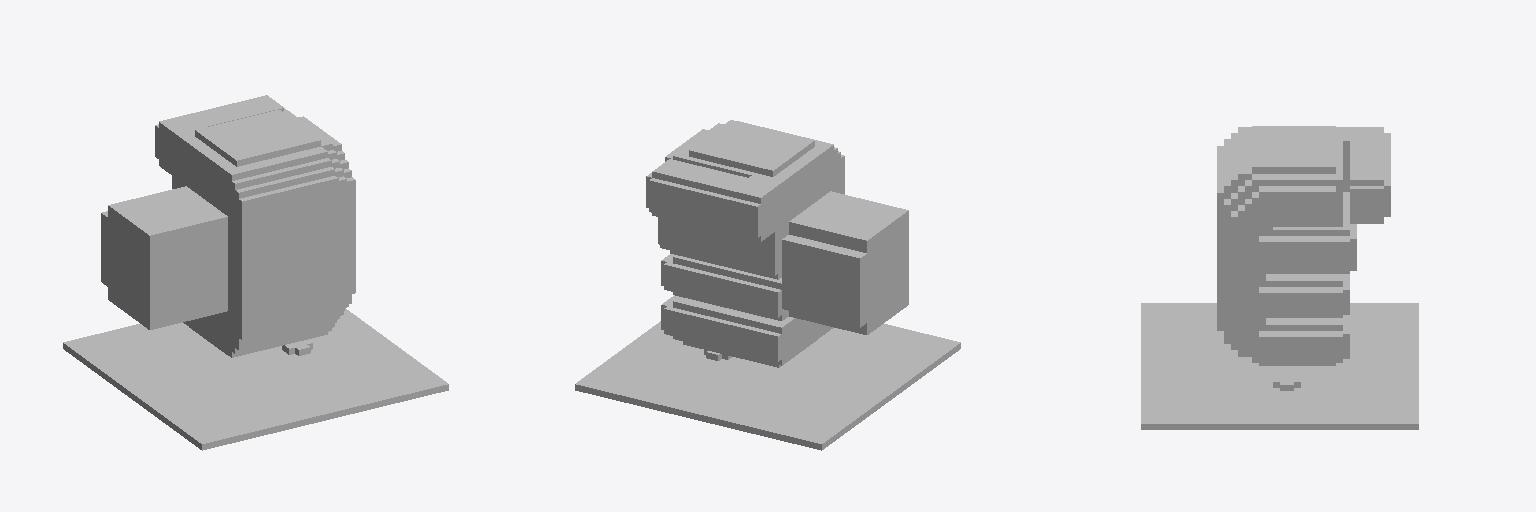
File: Bad Ending.obj
3 views of the same model, side by side, from view 1: azimuth 30°, elevation 25°; view 2: azimuth 150°, elevation 25°; view 3: azimuth 270°, elevation 25° (orthographic).
Bounding box in the file's own units: 41 × 36 × 40.